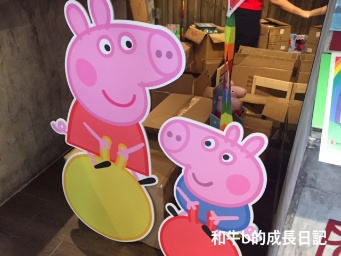Peppa: (48, 1, 185, 186)
